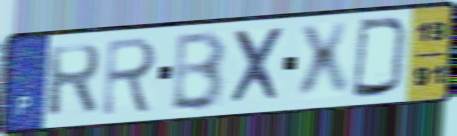B: (168, 28, 229, 113)
D: (349, 16, 412, 100)
R: (99, 34, 161, 119), (45, 41, 104, 119)
X: (227, 24, 287, 108), (295, 19, 352, 104)
